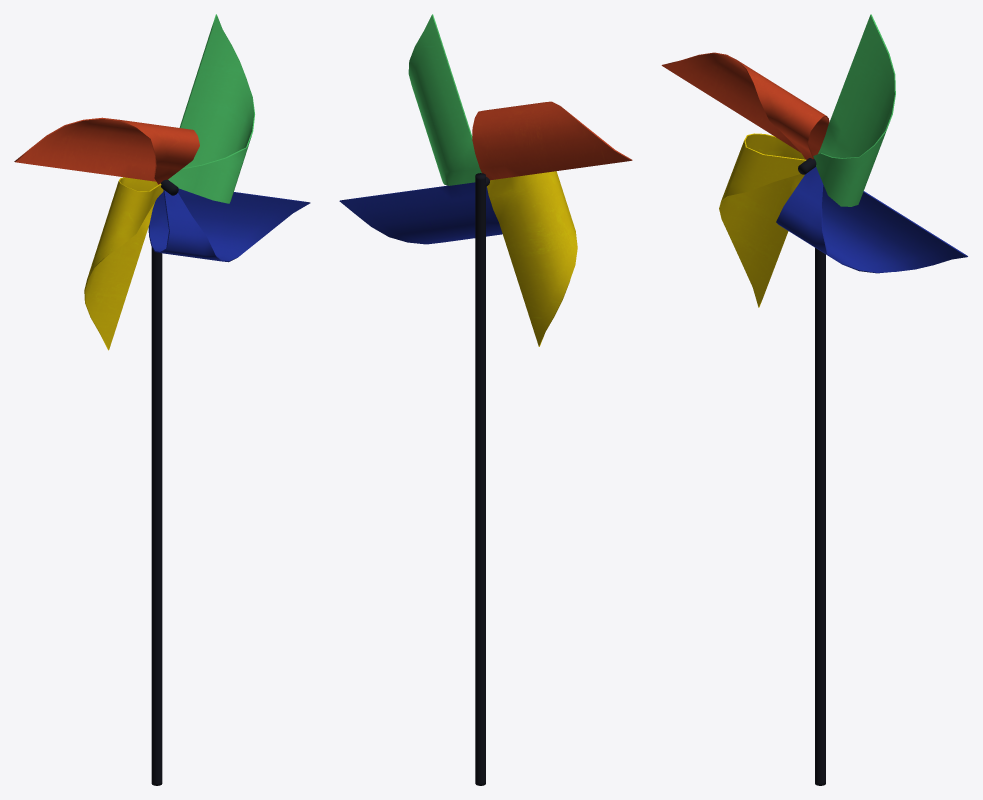
The model's file is Pinwheel.obj.
3 views of the same model, side by side, from view 1: azimuth 30°, elevation 25°; view 2: azimuth 150°, elevation 25°; view 3: azimuth 330°, elevation 25° (orthographic). The views are drawn at different scales.
Visible parts, largest first — view 1: Pinwheel, PinwheelPole; view 2: Pinwheel, PinwheelPole; view 3: Pinwheel, PinwheelPole.
Boxes of the visible parts, x1=… form: Pinwheel: x1=14, y1=14, x2=310, y2=350; PinwheelPole: x1=151, y1=179, x2=178, y2=785; Pinwheel: x1=339, y1=14, x2=632, y2=346; PinwheelPole: x1=475, y1=173, x2=489, y2=785; Pinwheel: x1=661, y1=14, x2=967, y2=307; PinwheelPole: x1=798, y1=158, x2=825, y2=785.
Bounding box in the file's own units: 8.73 × 21.45 × 1.49.
